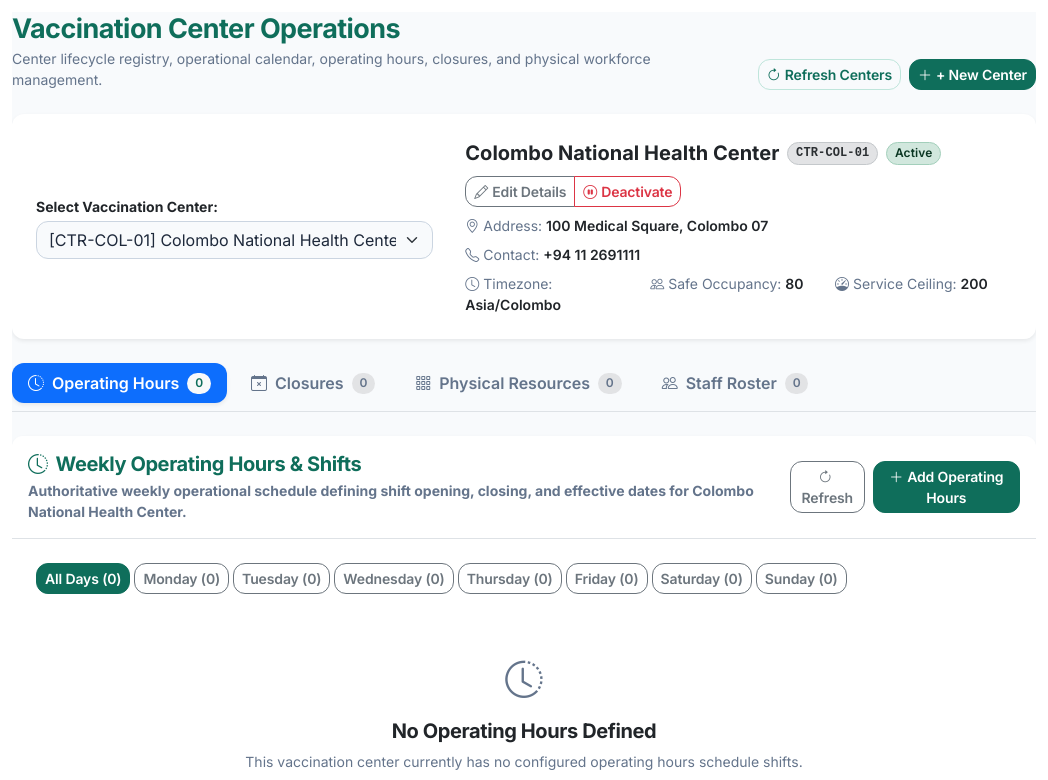
Test: CenterOperationsPage - Center CRUD integration › renders center list and detail for the selected center
This screenshot has width=1048, height=780.
Expected: the text "Colombo National Health Center" is shown, [465, 138, 779, 168]
Expected: the text "CTR-COL-01" is shown, [787, 142, 878, 164]
// Select Center 2
Step 1. Select "[CTR-KAN-02] Kandy Regional Center (INACTIVE)" in the dropdown labelled "Select Vaccination Center:" → (235, 240), box [36, 221, 433, 259]
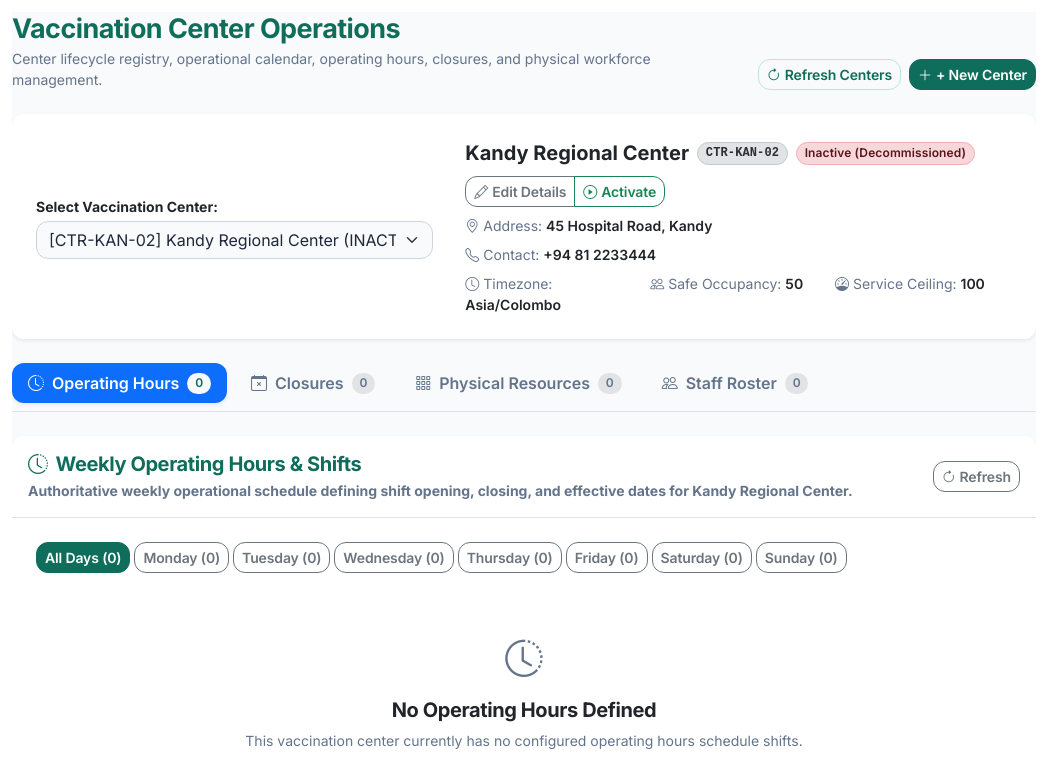
Expected: the text "Kandy Regional Center" is shown, [465, 138, 689, 168]
Expected: the text "CTR-KAN-02" is shown, [697, 142, 788, 164]
Expected: the text "Inactive (Decommissioned)" is shown, [796, 142, 975, 164]
